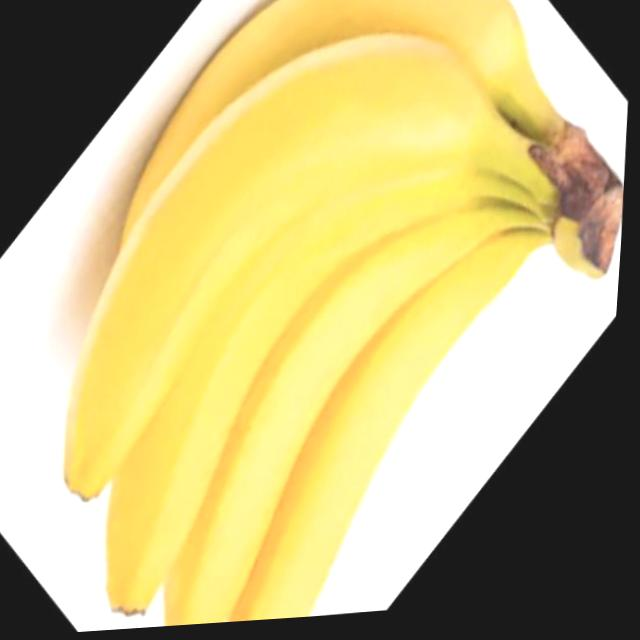Banana: (50, 0, 640, 636)
